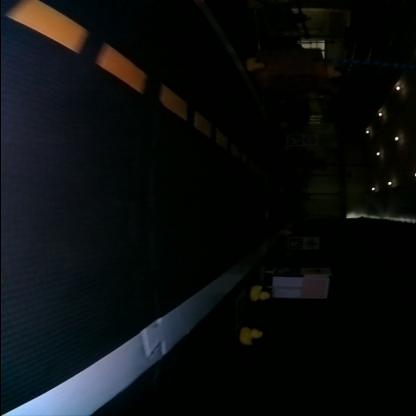Duckie: (240, 325, 262, 344), (250, 284, 270, 302), (325, 61, 341, 78), (247, 58, 263, 70)
